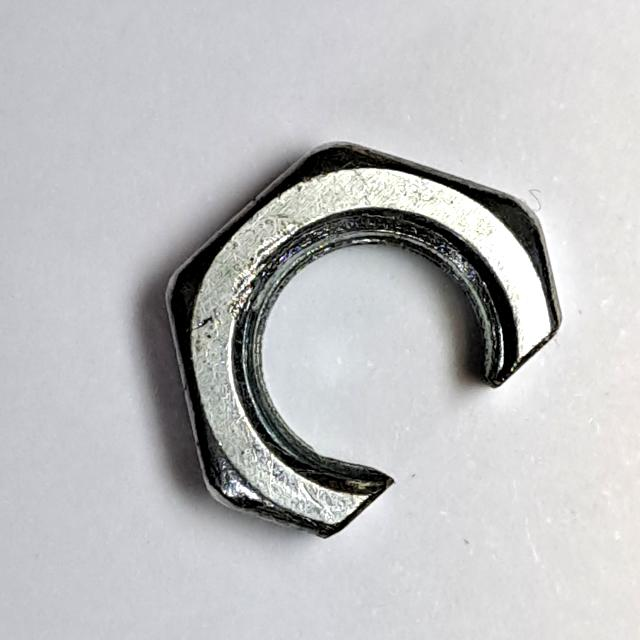Fracture: (149, 132, 569, 551)
